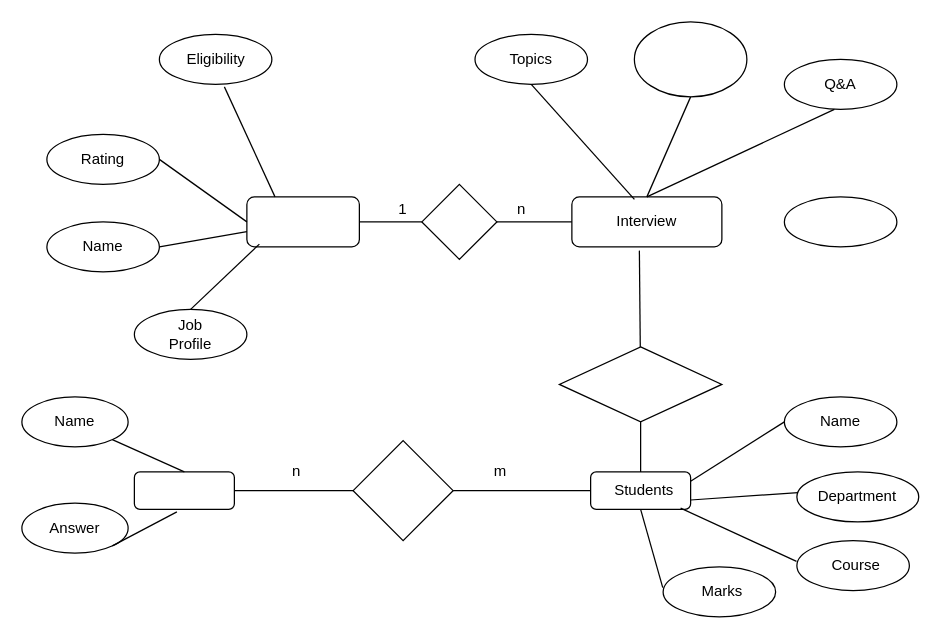
Image size: 941x639. Some labels were removed from this diagram. The centre of each missing label's shape, as x and y in pixels:
Company: (302,221)
Conduct: (459,221)
Doubts: (402,490)
Expereince: (690,59)
Pattern: (840,221)
Placed: (640,384)
Seniors: (183,490)
